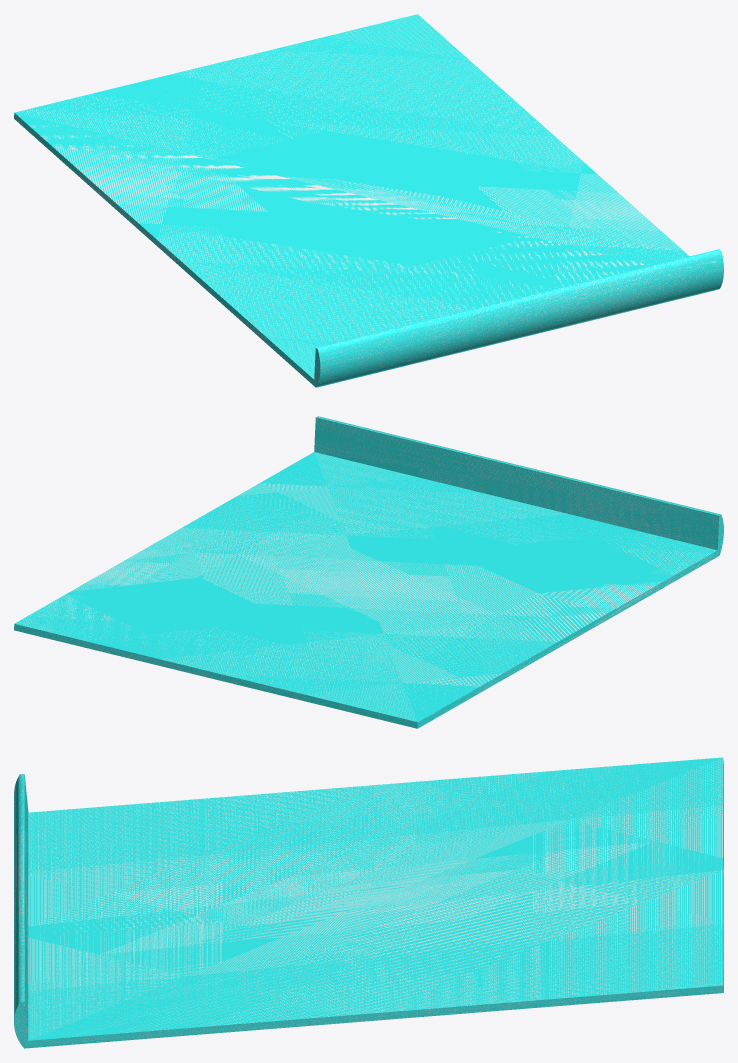
Rendered from original-5.obj.
3 renders of one model, top to bottom at view 1: azimuth 30°, elevation 25°; view 2: azimuth 150°, elevation 25°; view 3: azimuth 270°, elevation 25°, orthographic. The views are drawn at different scales.
Visible parts, largest first — view 1: group_1/ID28#ID28; view 2: group_1/ID28#ID28; view 3: group_1/ID28#ID28.
Part boxes in pixels (x1,y1,x2,y2): group_1/ID28#ID28: [14, 14, 723, 387]; group_1/ID28#ID28: [14, 416, 723, 728]; group_1/ID28#ID28: [14, 757, 723, 1048].
Bounding box in the file's own units: 0.4893 × 0.063 × 0.6434.
